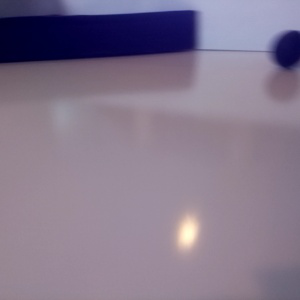zone: (1, 10, 196, 63)
